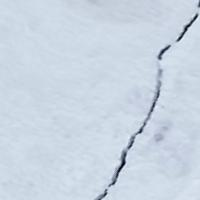crack: (98, 8, 199, 199)
